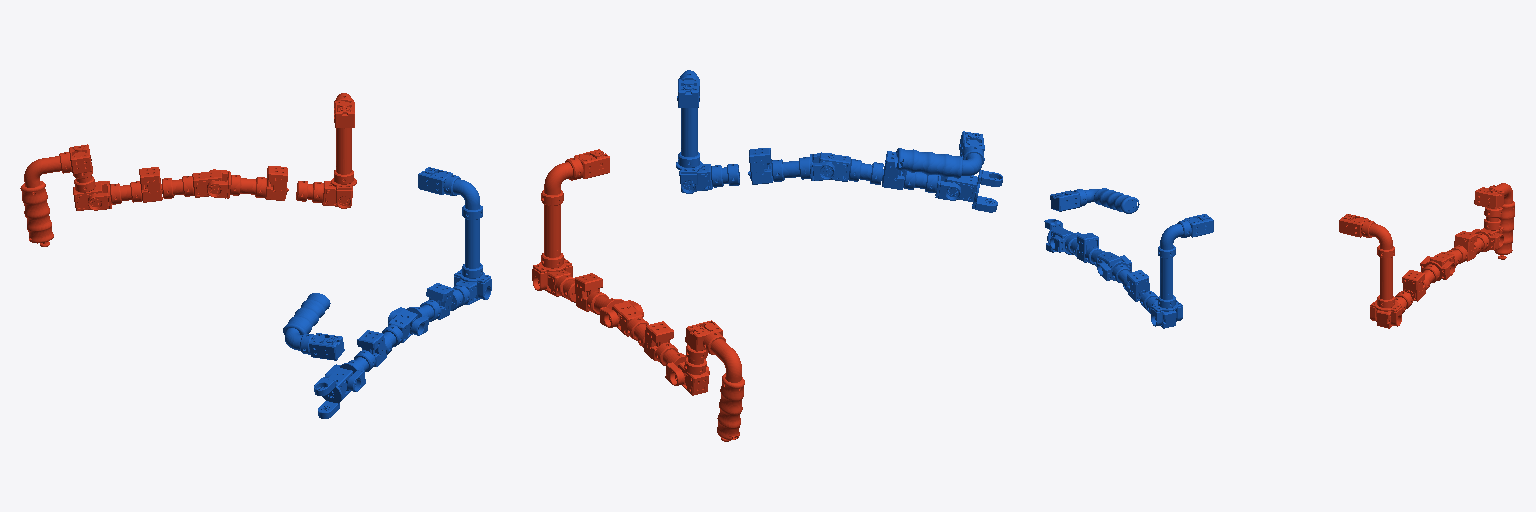
URDF robot description (dracomancer_mkii_assembly):
<?xml version="1.0" encoding="utf-8"?>
<robot name="dracomancer_mkii_assembly">
  <!-- SolidWorks source: dracomancer_mk2_with_mannequin.SLDASM, saved 2026-11-27. -->
  <!-- Mannequin omitted. Zero angles reproduce the saved CAD pose. -->
  <link name="base_link">
    <inertial>
      <origin xyz="0.538159498795166 7.7253991936946e-05 0.0394651265746217" rpy="0 0 0"/>
      <mass value="1.11965394595558"/>
      <inertia ixx="0.00607270347140615" ixy="1.60938752207106e-05" ixz="-0.00246776353811307" iyy="0.0143349789566615" iyz="1.37640215644864e-06" izz="0.0166722110372159"/>
    </inertial>
    <visual>
      <origin xyz="0 0 0" rpy="1.5707963267949 0 1.5707963267949"/>
      <geometry>
        <mesh filename="package://dracomancer/meshes/base.stl"/>
      </geometry>
      <material name="color_base_link">
        <color rgba="0.45 0.48 0.52 1"/>
      </material>
    </visual>
    <collision>
      <origin xyz="0 0 0" rpy="1.5707963267949 0 1.5707963267949"/>
      <geometry>
        <mesh filename="package://dracomancer/meshes/base.stl"/>
      </geometry>
    </collision>
  </link>
  <link name="right_link1_shoulder">
    <inertial>
      <origin xyz="-2.1282270287436e-06 -0.0636980231712038 0.0614127151237088" rpy="0 0 0"/>
      <mass value="0.324990293342891"/>
      <inertia ixx="0.00224729136139281" ixy="-2.13040982229516e-08" ixz="6.03026150546037e-08" iyy="0.00174673625156463" iyz="0.000632840952117425" izz="0.000555199046199421"/>
    </inertial>
    <visual>
      <geometry>
        <mesh filename="package://dracomancer/meshes/link1_shoulder.stl"/>
      </geometry>
      <material name="color_right_link1_shoulder">
        <color rgba="0.15 0.42 0.78 1"/>
      </material>
    </visual>
    <collision>
      <geometry>
        <mesh filename="package://dracomancer/meshes/link1_shoulder.stl"/>
      </geometry>
    </collision>
  </link>
  <link name="right_link2_upper_arm_upper">
    <inertial>
      <origin xyz="2.87007599770894e-07 -0.0363537947157851 0.000307480502028966" rpy="0 0 0"/>
      <mass value="0.173303363859651"/>
      <inertia ixx="0.000239257895836309" ixy="3.54426768162406e-09" ixz="-7.79014290555715e-10" iyy="3.21452038758277e-05" iyz="-1.42416285458455e-06" izz="0.000239444798925579"/>
    </inertial>
    <visual>
      <geometry>
        <mesh filename="package://dracomancer/meshes/link2_upper_arm_upper.stl"/>
      </geometry>
      <material name="color_right_link2_upper_arm_upper">
        <color rgba="0.15 0.42 0.78 1"/>
      </material>
    </visual>
    <collision>
      <geometry>
        <mesh filename="package://dracomancer/meshes/link2_upper_arm_upper.stl"/>
      </geometry>
    </collision>
  </link>
  <link name="right_link3_upper_arm_lower">
    <inertial>
      <origin xyz="-2.5466493498879e-06 -0.0062528543480382 -0.0346681459997604" rpy="0 0 0"/>
      <mass value="0.217030771473053"/>
      <inertia ixx="0.000436211358690329" ixy="-1.433385143573e-08" ixz="1.07353184751366e-08" iyy="0.000427492721691512" iyz="4.56755281744249e-05" izz="8.07851083955119e-05"/>
    </inertial>
    <visual>
      <geometry>
        <mesh filename="package://dracomancer/meshes/link3_upper_arm_lower.stl"/>
      </geometry>
      <material name="color_right_link3_upper_arm_lower">
        <color rgba="0.15 0.42 0.78 1"/>
      </material>
    </visual>
    <collision>
      <geometry>
        <mesh filename="package://dracomancer/meshes/link3_upper_arm_lower.stl"/>
      </geometry>
    </collision>
  </link>
  <link name="right_link4_lower_arm_upper">
    <inertial>
      <origin xyz="2.99312577248433e-07 -0.0328863264015517 0.000320556207474178" rpy="0 0 0"/>
      <mass value="0.166234780389074"/>
      <inertia ixx="0.000192721589489814" ixy="3.22773897504157e-09" ixz="-7.78354785624394e-10" iyy="3.13492914029684e-05" iyz="-1.23938248655911e-06" izz="0.000192909189410255"/>
    </inertial>
    <visual>
      <geometry>
        <mesh filename="package://dracomancer/meshes/link4_lower_arm_upper.stl"/>
      </geometry>
      <material name="color_right_link4_lower_arm_upper">
        <color rgba="0.15 0.42 0.78 1"/>
      </material>
    </visual>
    <collision>
      <geometry>
        <mesh filename="package://dracomancer/meshes/link4_lower_arm_upper.stl"/>
      </geometry>
    </collision>
  </link>
  <link name="right_link5_lower_arm_lower">
    <inertial>
      <origin xyz="-2.86798721999522e-06 -0.00646360029093035 -0.0308746457288023" rpy="0 0 0"/>
      <mass value="0.209962188002476"/>
      <inertia ixx="0.000360454422825007" ixy="-1.46908146204271e-08" ixz="8.42829946247978e-09" iyy="0.000352039393539122" iyz="4.05277882095954e-05" izz="7.97035731631775e-05"/>
    </inertial>
    <visual>
      <geometry>
        <mesh filename="package://dracomancer/meshes/link5_lower_arm_lower.stl"/>
      </geometry>
      <material name="color_right_link5_lower_arm_lower">
        <color rgba="0.15 0.42 0.78 1"/>
      </material>
    </visual>
    <collision>
      <geometry>
        <mesh filename="package://dracomancer/meshes/link5_lower_arm_lower.stl"/>
      </geometry>
    </collision>
  </link>
  <link name="right_link6_wrist_upper">
    <inertial>
      <origin xyz="0.0145698262241863 -0.0130904602565066 0.000336565885870667" rpy="0 0 0"/>
      <mass value="0.160182451761173"/>
      <inertia ixx="4.55820476760918e-05" ixy="6.79535795936085e-06" ixz="7.90180875337207e-07" iyy="0.000107157483697853" iyz="-1.85959161320314e-07" izz="0.000122128114222353"/>
    </inertial>
    <visual>
      <geometry>
        <mesh filename="package://dracomancer/meshes/link6_wrist_upper.stl"/>
      </geometry>
      <material name="color_right_link6_wrist_upper">
        <color rgba="0.15 0.42 0.78 1"/>
      </material>
    </visual>
    <collision>
      <geometry>
        <mesh filename="package://dracomancer/meshes/link6_wrist_upper.stl"/>
      </geometry>
    </collision>
  </link>
  <link name="right_link7_wrist_lower">
    <inertial>
      <origin xyz="-0.0606174416699351 -0.0146671814362258 0.0442306801583407" rpy="0 0 0"/>
      <mass value="0.349605251891039"/>
      <inertia ixx="0.000980396168148244" ixy="-2.82564271113715e-05" ixz="0.000591272616226426" iyy="0.00166835274643897" iyz="2.02689568419576e-05" izz="0.000778957016303556"/>
    </inertial>
    <visual>
      <geometry>
        <mesh filename="package://dracomancer/meshes/link7_wrist_lower.stl"/>
      </geometry>
      <material name="color_right_link7_wrist_lower">
        <color rgba="0.15 0.42 0.78 1"/>
      </material>
    </visual>
    <collision>
      <geometry>
        <mesh filename="package://dracomancer/meshes/link7_wrist_lower.stl"/>
      </geometry>
    </collision>
  </link>
  <link name="left_link1_shoulder">
    <inertial>
      <origin xyz="-2.1282270287436e-06 -0.0636980231712038 0.0614127151237088" rpy="0 0 0"/>
      <mass value="0.324990293342891"/>
      <inertia ixx="0.00224729136139281" ixy="-2.13040982229516e-08" ixz="6.03026150546037e-08" iyy="0.00174673625156463" iyz="0.000632840952117425" izz="0.000555199046199421"/>
    </inertial>
    <visual>
      <geometry>
        <mesh filename="package://dracomancer/meshes/link1_shoulder.stl"/>
      </geometry>
      <material name="color_left_link1_shoulder">
        <color rgba="0.85 0.28 0.17 1"/>
      </material>
    </visual>
    <collision>
      <geometry>
        <mesh filename="package://dracomancer/meshes/link1_shoulder.stl"/>
      </geometry>
    </collision>
  </link>
  <link name="left_link2_upper_arm_upper">
    <inertial>
      <origin xyz="2.87007599770894e-07 -0.0363537947157851 0.000307480502028966" rpy="0 0 0"/>
      <mass value="0.173303363859651"/>
      <inertia ixx="0.000239257895836309" ixy="3.54426768162406e-09" ixz="-7.79014290555715e-10" iyy="3.21452038758277e-05" iyz="-1.42416285458455e-06" izz="0.000239444798925579"/>
    </inertial>
    <visual>
      <geometry>
        <mesh filename="package://dracomancer/meshes/link2_upper_arm_upper.stl"/>
      </geometry>
      <material name="color_left_link2_upper_arm_upper">
        <color rgba="0.85 0.28 0.17 1"/>
      </material>
    </visual>
    <collision>
      <geometry>
        <mesh filename="package://dracomancer/meshes/link2_upper_arm_upper.stl"/>
      </geometry>
    </collision>
  </link>
  <link name="left_link3_upper_arm_lower">
    <inertial>
      <origin xyz="-2.5466493498879e-06 -0.0062528543480382 -0.0346681459997604" rpy="0 0 0"/>
      <mass value="0.217030771473053"/>
      <inertia ixx="0.000436211358690329" ixy="-1.433385143573e-08" ixz="1.07353184751366e-08" iyy="0.000427492721691512" iyz="4.56755281744249e-05" izz="8.07851083955119e-05"/>
    </inertial>
    <visual>
      <geometry>
        <mesh filename="package://dracomancer/meshes/link3_upper_arm_lower.stl"/>
      </geometry>
      <material name="color_left_link3_upper_arm_lower">
        <color rgba="0.85 0.28 0.17 1"/>
      </material>
    </visual>
    <collision>
      <geometry>
        <mesh filename="package://dracomancer/meshes/link3_upper_arm_lower.stl"/>
      </geometry>
    </collision>
  </link>
  <link name="left_link4_lower_arm_upper">
    <inertial>
      <origin xyz="2.99312577248433e-07 -0.0328863264015517 0.000320556207474178" rpy="0 0 0"/>
      <mass value="0.166234780389074"/>
      <inertia ixx="0.000192721589489814" ixy="3.22773897504157e-09" ixz="-7.78354785624394e-10" iyy="3.13492914029684e-05" iyz="-1.23938248655911e-06" izz="0.000192909189410255"/>
    </inertial>
    <visual>
      <geometry>
        <mesh filename="package://dracomancer/meshes/link4_lower_arm_upper.stl"/>
      </geometry>
      <material name="color_left_link4_lower_arm_upper">
        <color rgba="0.85 0.28 0.17 1"/>
      </material>
    </visual>
    <collision>
      <geometry>
        <mesh filename="package://dracomancer/meshes/link4_lower_arm_upper.stl"/>
      </geometry>
    </collision>
  </link>
  <link name="left_link5_lower_arm_lower">
    <inertial>
      <origin xyz="-2.86798721999522e-06 -0.00646360029093035 -0.0308746457288023" rpy="0 0 0"/>
      <mass value="0.209962188002476"/>
      <inertia ixx="0.000360454422825007" ixy="-1.46908146204271e-08" ixz="8.42829946247978e-09" iyy="0.000352039393539122" iyz="4.05277882095954e-05" izz="7.97035731631775e-05"/>
    </inertial>
    <visual>
      <geometry>
        <mesh filename="package://dracomancer/meshes/link5_lower_arm_lower.stl"/>
      </geometry>
      <material name="color_left_link5_lower_arm_lower">
        <color rgba="0.85 0.28 0.17 1"/>
      </material>
    </visual>
    <collision>
      <geometry>
        <mesh filename="package://dracomancer/meshes/link5_lower_arm_lower.stl"/>
      </geometry>
    </collision>
  </link>
  <link name="left_link6_wrist_upper">
    <inertial>
      <origin xyz="-0.0145728314698564 -0.0130904602565066 0.000336565885870719" rpy="0 0 0"/>
      <mass value="0.160182451761173"/>
      <inertia ixx="4.55820476760918e-05" ixy="-6.79676210845238e-06" ixz="-7.90335293543002e-07" iyy="0.000107159773697964" iyz="-1.85959161320288e-07" izz="0.000122130404222464"/>
    </inertial>
    <visual>
      <geometry>
        <mesh filename="package://dracomancer/meshes/link6_wrist_upper_left.stl"/>
      </geometry>
      <material name="color_left_link6_wrist_upper">
        <color rgba="0.85 0.28 0.17 1"/>
      </material>
    </visual>
    <collision>
      <geometry>
        <mesh filename="package://dracomancer/meshes/link6_wrist_upper_left.stl"/>
      </geometry>
    </collision>
  </link>
  <link name="left_link7_wrist_lower">
    <inertial>
      <origin xyz="0.0606160647237451 -0.0146671960335121 0.0442306801583408" rpy="0 0 0"/>
      <mass value="0.349605251891039"/>
      <inertia ixx="0.00098039613017343" ixy="2.82537682052075e-05" ixz="-0.000591293909686889" iyy="0.00166839478954437" iyz="2.02673005643561e-05" izz="0.000778999021434139"/>
    </inertial>
    <visual>
      <geometry>
        <mesh filename="package://dracomancer/meshes/link7_wrist_lower_left.stl"/>
      </geometry>
      <material name="color_left_link7_wrist_lower">
        <color rgba="0.85 0.28 0.17 1"/>
      </material>
    </visual>
    <collision>
      <geometry>
        <mesh filename="package://dracomancer/meshes/link7_wrist_lower_left.stl"/>
      </geometry>
    </collision>
  </link>
  <joint name="right_joint_1" type="continuous">
    <origin xyz="0.606273192976861 -0.165000000000007 0.11800000000299" rpy="-3.14159265358979 0 -2.63235018652274"/>
    <parent link="base_link"/>
    <child link="right_link1_shoulder"/>
    <axis xyz="0 0 -1"/>
  </joint>
  <joint name="right_joint_2" type="continuous">
    <origin xyz="0 -0.0956500000000015 0.21" rpy="1.57079632679489 1.46350949854709 -3.14159265358907"/>
    <parent link="right_link1_shoulder"/>
    <child link="right_link2_upper_arm_upper"/>
    <axis xyz="0 0 -1"/>
  </joint>
  <joint name="right_joint_3" type="continuous">
    <origin xyz="0 -0.12965 0" rpy="1.5707963267949 1.46669417135024 -3.14159265358979"/>
    <parent link="right_link2_upper_arm_upper"/>
    <child link="right_link3_upper_arm_lower"/>
    <axis xyz="0 0 -1"/>
  </joint>
  <joint name="right_joint_4" type="continuous">
    <origin xyz="0 0 -0.121999999999999" rpy="1.5707963267949 0.253455581816449 -1.5707963267949"/>
    <parent link="right_link3_upper_arm_lower"/>
    <child link="right_link4_lower_arm_upper"/>
    <axis xyz="0 0 -1"/>
  </joint>
  <joint name="right_joint_5" type="continuous">
    <origin xyz="0 -0.119650000000001 0" rpy="-1.5707963267949 1.42522287235983 0"/>
    <parent link="right_link4_lower_arm_upper"/>
    <child link="right_link5_lower_arm_lower"/>
    <axis xyz="0 0 1"/>
  </joint>
  <joint name="right_joint_6" type="continuous">
    <origin xyz="0 0 -0.112" rpy="1.5707963267949 0.0471626595244627 -1.5707963267949"/>
    <parent link="right_link5_lower_arm_lower"/>
    <child link="right_link6_wrist_upper"/>
    <axis xyz="0 0 -1"/>
  </joint>
  <joint name="right_joint_7" type="continuous">
    <origin xyz="0.0884500000000001 -0.0160000000000001 0" rpy="-1.5707963267949 -0.112821034233788 1.5707963267949"/>
    <parent link="right_link6_wrist_upper"/>
    <child link="right_link7_wrist_lower"/>
    <axis xyz="0 0 -1"/>
  </joint>
  <!-- Use the mirrored right-arm rotation direction for positive left-arm angles. -->
  <joint name="left_joint_1" type="continuous">
    <origin xyz="0.606273192976865 0.165 0.118000000000083" rpy="3.14159265358979 0 -0.504400344947869"/>
    <parent link="base_link"/>
    <child link="left_link1_shoulder"/>
    <axis xyz="0 0 1"/>
  </joint>
  <joint name="left_joint_2" type="continuous">
    <origin xyz="0 -0.0956500000000012 0.21" rpy="1.57079632679489 -1.46530416725595 -3.14159265358906"/>
    <parent link="left_link1_shoulder"/>
    <child link="left_link2_upper_arm_upper"/>
    <axis xyz="0 0 1"/>
  </joint>
  <joint name="left_joint_3" type="continuous">
    <origin xyz="0 -0.12965 0" rpy="1.57079632679478 -1.56033244113416 -3.14159265358969"/>
    <parent link="left_link2_upper_arm_upper"/>
    <child link="left_link3_upper_arm_lower"/>
    <axis xyz="0 0 1"/>
  </joint>
  <joint name="left_joint_4" type="continuous">
    <origin xyz="0 0 -0.122" rpy="1.5707963267949 -0.214180109911696 1.5707963267949"/>
    <parent link="left_link3_upper_arm_lower"/>
    <child link="left_link4_lower_arm_upper"/>
    <axis xyz="0 0 1"/>
  </joint>
  <joint name="left_joint_5" type="continuous">
    <origin xyz="0 -0.11965 0" rpy="-1.57079632679489 -1.54781309801312 0"/>
    <parent link="left_link4_lower_arm_upper"/>
    <child link="left_link5_lower_arm_lower"/>
    <axis xyz="0 0 -1"/>
  </joint>
  <joint name="left_joint_6" type="continuous">
    <origin xyz="0 0 -0.112" rpy="1.5707963267949 -0.0384283282081401 1.57079632679489"/>
    <parent link="left_link5_lower_arm_lower"/>
    <child link="left_link6_wrist_upper"/>
    <axis xyz="0 0 1"/>
  </joint>
  <joint name="left_joint_7" type="continuous">
    <origin xyz="-0.08845 -0.0160000000000001 0" rpy="-1.5707963267949 -0.0310609927171764 -1.5707963267949"/>
    <parent link="left_link6_wrist_upper"/>
    <child link="left_link7_wrist_lower"/>
    <axis xyz="0 0 1"/>
  </joint>
</robot>

--- Render facts (derived) ---
3 views of the same robot in one strip: view 1: azimuth 30°, elevation 25°; view 2: azimuth 150°, elevation 25°; view 3: azimuth 270°, elevation 25° (orthographic).
Robot: dracomancer_mkii_assembly — 15 links, 14 joints (14 continuous); root link base_link; default pose: every joint at zero.
Links seen in each view (by area): view 1: right_link1_shoulder, left_link7_wrist_lower, right_link7_wrist_lower, left_link1_shoulder, left_link3_upper_arm_lower, left_link5_lower_arm_lower, right_link5_lower_arm_lower, right_link3_upper_arm_lower, right_link6_wrist_upper, left_link4_lower_arm_upper, right_link4_lower_arm_upper, left_link2_upper_arm_upper (+2 smaller); view 2: left_link1_shoulder, left_link7_wrist_lower, right_link7_wrist_lower, right_link1_shoulder, right_link3_upper_arm_lower, right_link5_lower_arm_lower, left_link5_lower_arm_lower, left_link3_upper_arm_lower, right_link4_lower_arm_upper, right_link6_wrist_upper, left_link6_wrist_upper, right_link2_upper_arm_upper (+2 smaller); view 3: right_link1_shoulder, left_link1_shoulder, right_link7_wrist_lower, left_link7_wrist_lower, left_link3_upper_arm_lower, right_link3_upper_arm_lower, left_link5_lower_arm_lower, right_link5_lower_arm_lower.
Boxes of the visible links, bbox=[...] form: right_link1_shoulder: bbox=[418, 167, 491, 299]; left_link7_wrist_lower: bbox=[20, 144, 92, 246]; right_link7_wrist_lower: bbox=[283, 293, 344, 360]; left_link1_shoulder: bbox=[331, 93, 356, 208]; left_link3_upper_arm_lower: bbox=[207, 166, 288, 200]; left_link5_lower_arm_lower: bbox=[88, 167, 162, 210]; right_link5_lower_arm_lower: bbox=[325, 330, 386, 391]; right_link3_upper_arm_lower: bbox=[388, 283, 453, 335]; right_link6_wrist_upper: bbox=[314, 368, 352, 418]; left_link4_lower_arm_upper: bbox=[162, 170, 222, 198]; right_link4_lower_arm_upper: bbox=[382, 309, 417, 354]; left_link2_upper_arm_upper: bbox=[296, 181, 352, 207]; left_link1_shoulder: bbox=[532, 149, 609, 290]; left_link7_wrist_lower: bbox=[685, 320, 744, 441]; right_link7_wrist_lower: bbox=[895, 131, 984, 178]; right_link1_shoulder: bbox=[676, 70, 702, 193]; right_link3_upper_arm_lower: bbox=[748, 148, 834, 184]; right_link5_lower_arm_lower: bbox=[882, 151, 960, 200]; left_link5_lower_arm_lower: bbox=[644, 321, 709, 385]; left_link3_upper_arm_lower: bbox=[575, 273, 643, 327]; right_link4_lower_arm_upper: bbox=[819, 152, 883, 184]; right_link6_wrist_upper: bbox=[945, 170, 1002, 212]; left_link6_wrist_upper: bbox=[678, 344, 708, 395]; right_link2_upper_arm_upper: bbox=[679, 164, 739, 192]; right_link1_shoulder: bbox=[1151, 214, 1213, 326]; left_link1_shoulder: bbox=[1339, 214, 1401, 326]; right_link7_wrist_lower: bbox=[1050, 188, 1139, 213]; left_link7_wrist_lower: bbox=[1474, 183, 1514, 259]; left_link3_upper_arm_lower: bbox=[1402, 256, 1455, 301]; right_link3_upper_arm_lower: bbox=[1097, 255, 1149, 301]; left_link5_lower_arm_lower: bbox=[1454, 229, 1503, 261]; right_link5_lower_arm_lower: bbox=[1050, 232, 1098, 262].
Bounding box of the posed robot: 0.5892 × 1.07 × 0.3249 m (x, y, z).
Meshes: 10 distinct files referenced, 14 mesh visuals loaded (9 binary STL); not drawn: 1 (reference not matched to a file when rendering).
